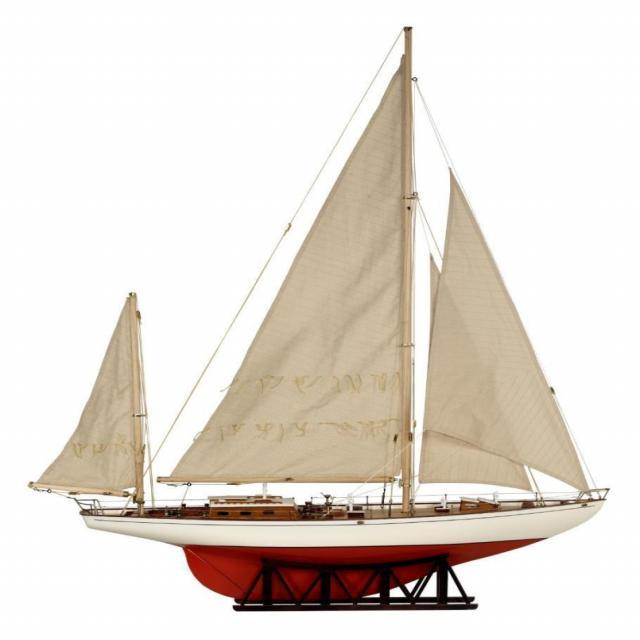Ship: (40, 27, 611, 609)
